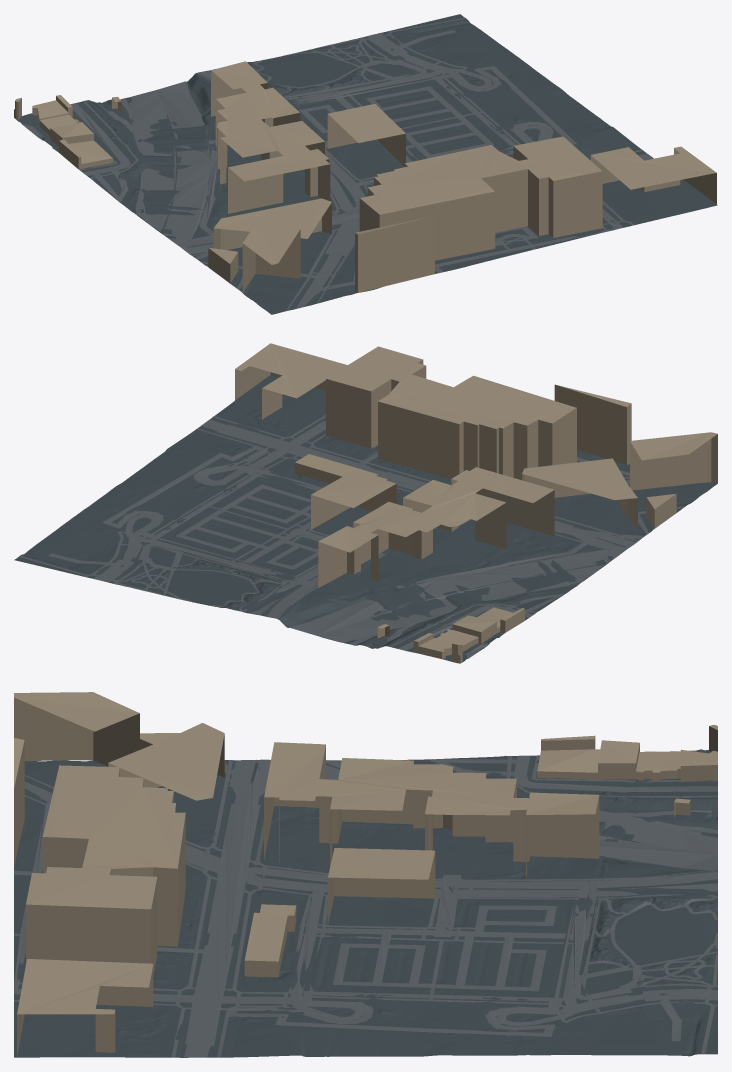
File: epsg26910-1441-10885.lod0.glb
The picture shows the model from 3 angles, top to bottom: view 1: azimuth 30°, elevation 25°; view 2: azimuth 150°, elevation 25°; view 3: azimuth 270°, elevation 25°; orthographic projection. The views are drawn at different scales.
Parts seen in each view (by area): view 1: epsg26910-1441-10885-lod0; view 2: epsg26910-1441-10885-lod0; view 3: epsg26910-1441-10885-lod0.
Part boxes in pixels (box(x1,y1,x2,y2)): epsg26910-1441-10885-lod0: box(14, 14, 717, 314); epsg26910-1441-10885-lod0: box(14, 343, 717, 663); epsg26910-1441-10885-lod0: box(14, 692, 717, 1057).
Size of the model in its own units: 384 by 49.39 by 384.
